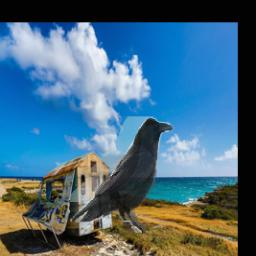Crow: (70, 117, 174, 234)
